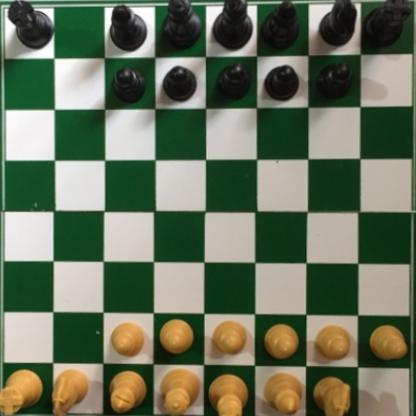black-bishop: (259, 1, 301, 51), (108, 5, 150, 52)
black-king: (212, 0, 254, 50)
black-knight: (318, 0, 359, 48)
black-pawn: (316, 62, 354, 103), (107, 66, 147, 104), (161, 65, 199, 105), (217, 63, 252, 104), (265, 65, 300, 102)
black-queen: (164, 0, 203, 53)
black-rook: (6, 0, 54, 52), (363, 0, 412, 49)
white-bishop: (108, 366, 149, 416), (266, 370, 307, 416)
white-king: (207, 371, 251, 416)
white-knight: (51, 366, 89, 416), (313, 374, 351, 416)
white-pawn: (263, 322, 302, 362), (368, 324, 409, 362), (210, 318, 248, 358), (158, 317, 195, 356), (110, 322, 145, 358), (314, 326, 351, 360)
white-queen: (157, 367, 202, 416)
white-rook: (0, 366, 44, 416)
